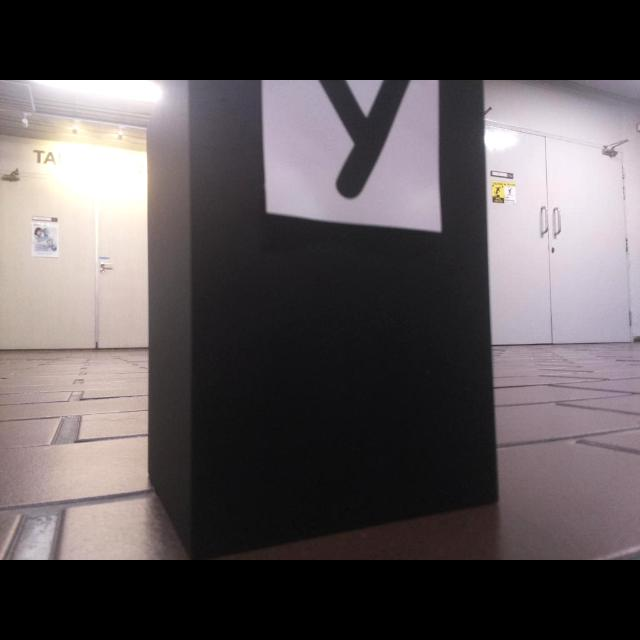Y: (320, 80, 409, 198)
